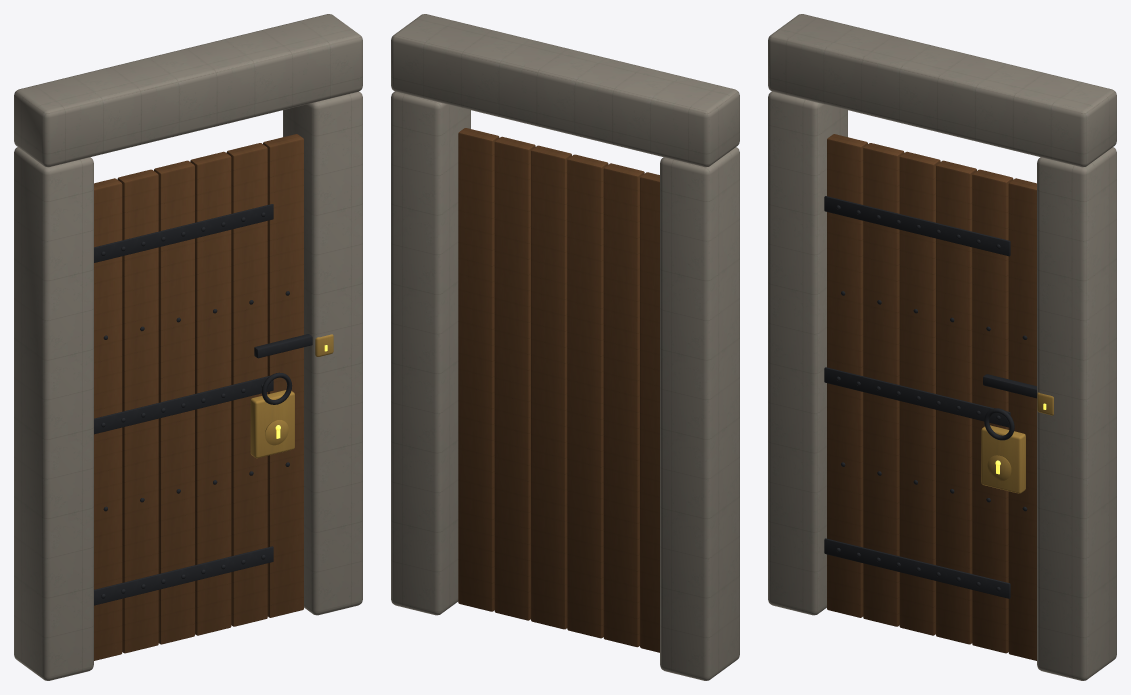
File: porta-dos-fundos.glb
The picture shows the model from 3 angles, left to right: view 1: azimuth 30°, elevation 25°; view 2: azimuth 150°, elevation 25°; view 3: azimuth 330°, elevation 25°; orthographic projection.
Visible parts, largest first — view 1: folha, ombreira--1, ombreira-1, verga; view 2: folha, ombreira--1, ombreira-1, verga; view 3: folha, ombreira-1, ombreira--1, verga.
Part boxes in pixels (x1,y1,x2,y2): folha: (94, 134, 312, 660); ombreira--1: (14, 147, 93, 680); ombreira-1: (283, 91, 362, 615); verga: (14, 14, 362, 167); folha: (458, 128, 659, 652); ombreira--1: (660, 147, 739, 680); ombreira-1: (391, 91, 470, 615); verga: (391, 14, 739, 167); folha: (824, 134, 1036, 660); ombreira-1: (1037, 147, 1116, 680); ombreira--1: (768, 91, 847, 615); verga: (768, 14, 1116, 167).
Size of the model in its own units: 1.76 by 3 by 0.3351.
Materials: 5 (4 with a texture image).
